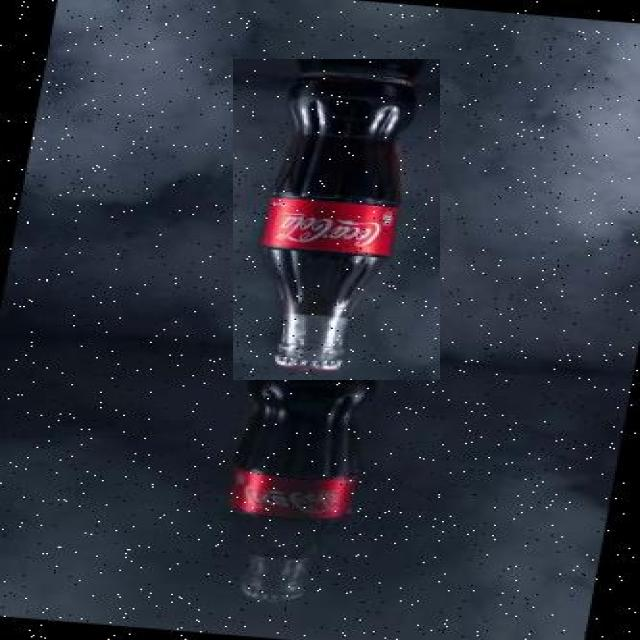coca-cola: (233, 59, 440, 380)
